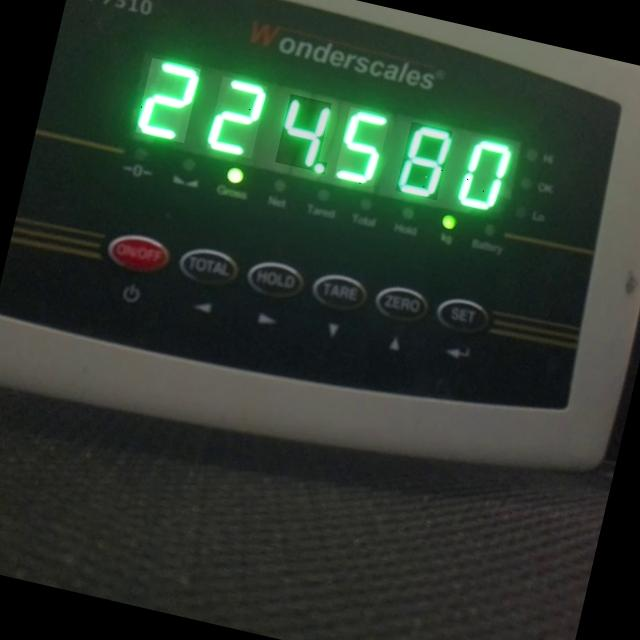.: (310, 159, 326, 174)
0: (456, 136, 514, 214)
2: (134, 58, 200, 142), (205, 76, 268, 159)
4: (274, 94, 331, 172)
5: (334, 106, 391, 186)
8: (395, 121, 452, 200)
